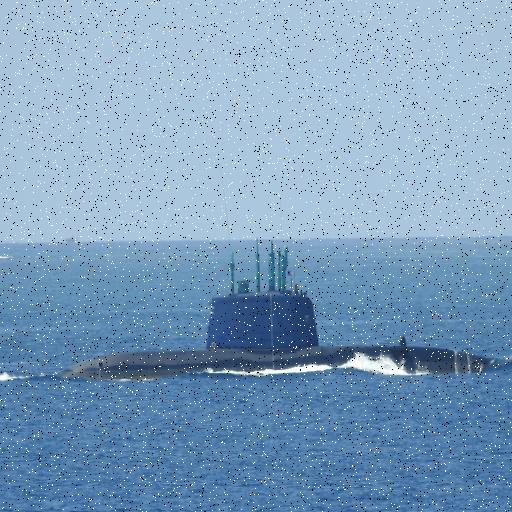submarine: (59, 282, 511, 379)
